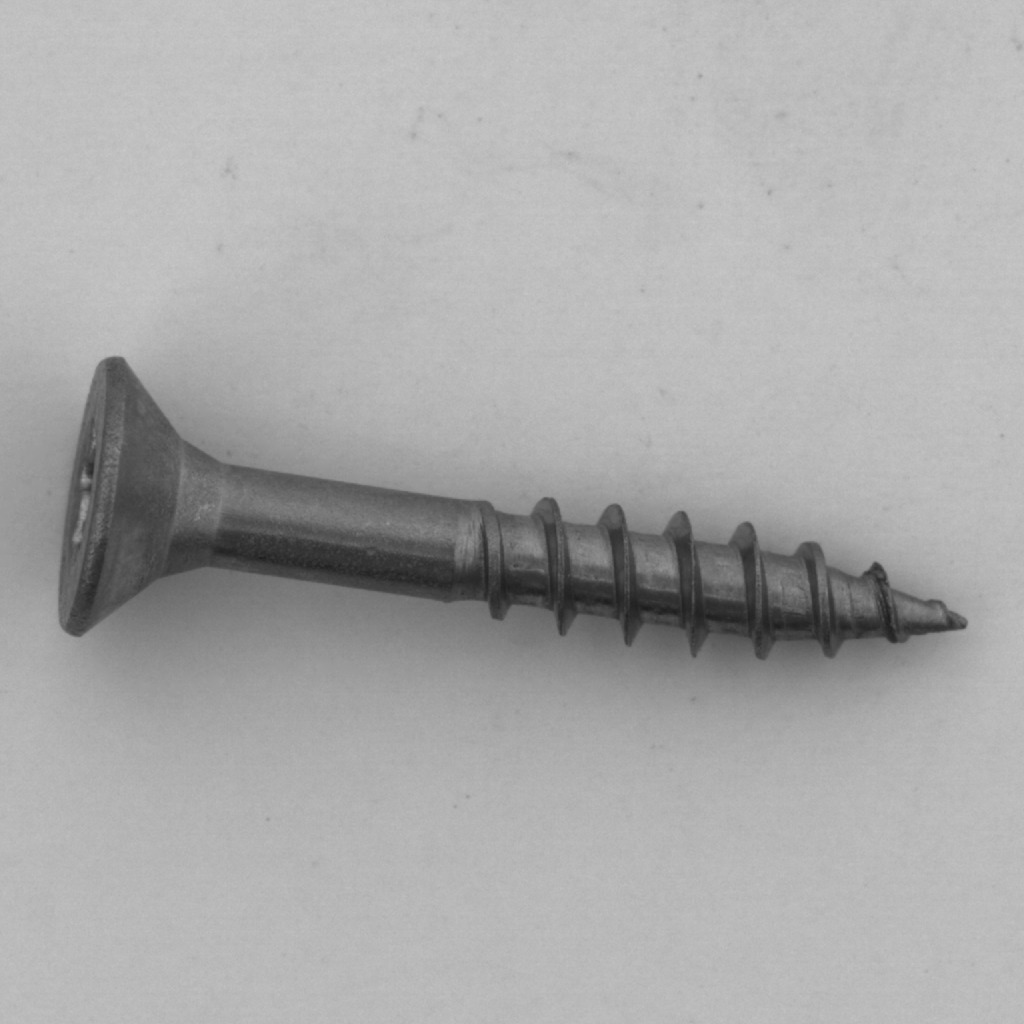good: (34, 343, 998, 651)
